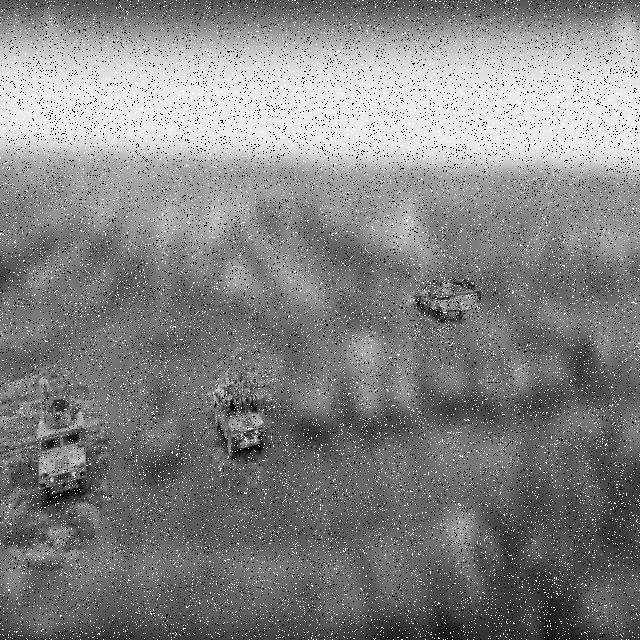MIL_MBT: (413, 278, 481, 323)
